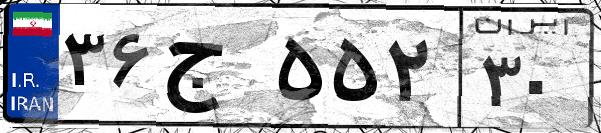0: (525, 38, 570, 115)
2: (385, 28, 445, 110)
3: (57, 26, 110, 100), (475, 38, 525, 113)
5: (270, 28, 330, 110), (330, 28, 385, 110)
6: (110, 28, 158, 98)
ج: (158, 20, 270, 120)
